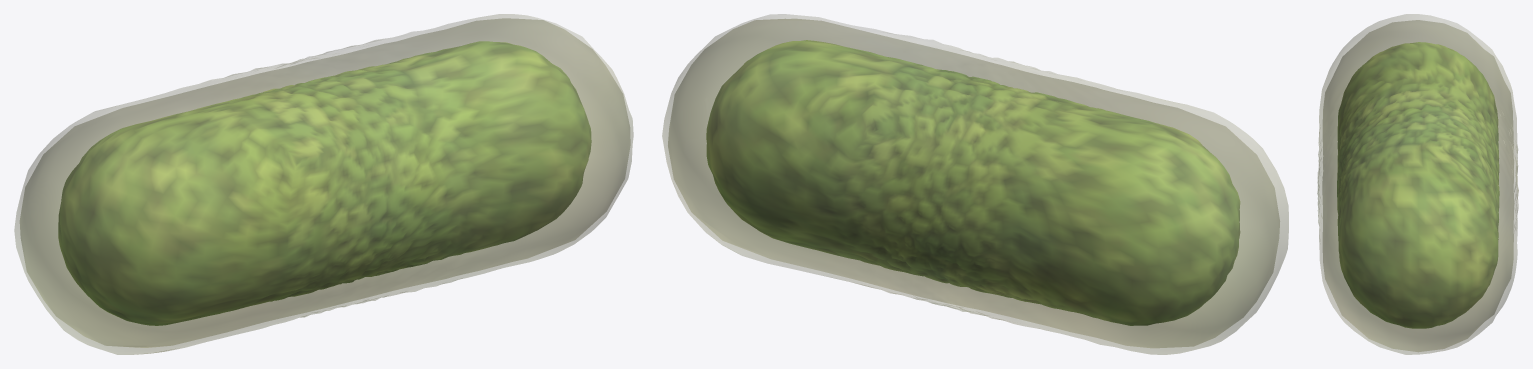
Rendered from envelope-bacterium.glb.
3 renders of one model, left to right at view 1: azimuth 30°, elevation 25°; view 2: azimuth 150°, elevation 25°; view 3: azimuth 270°, elevation 25°, orthographic. The views are drawn at different scales.
Parts seen in each view (by area): view 1: envelope-bacterium-capsule, envelope-bacterium-wall; view 2: envelope-bacterium-capsule, envelope-bacterium-wall; view 3: envelope-bacterium-capsule, envelope-bacterium-wall.
Part boxes in pixels (x1,y1,x2,y2): envelope-bacterium-capsule: (14,14,633,354); envelope-bacterium-wall: (58,41,591,325); envelope-bacterium-capsule: (662,14,1288,354); envelope-bacterium-wall: (706,40,1240,325); envelope-bacterium-capsule: (1317,14,1518,354); envelope-bacterium-wall: (1337,42,1499,328).
Size of what is drawn, in the model's own units: 16.78 by 6.38 by 6.34.
